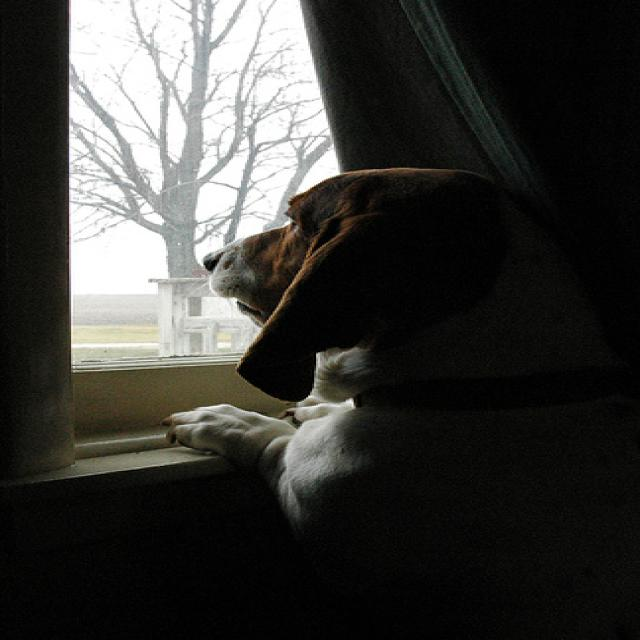Dog: (146, 191, 600, 635)
